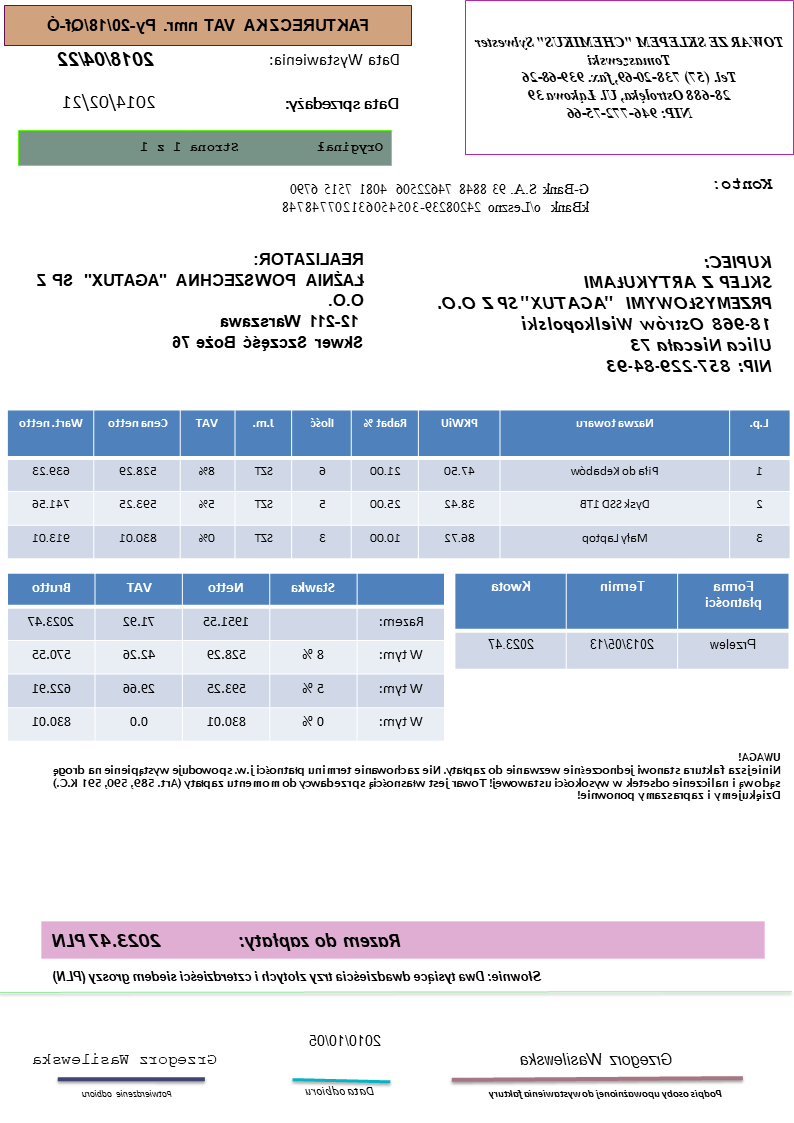Table: (6, 409, 792, 559), (6, 571, 446, 741), (455, 573, 790, 670)
TextBox: (433, 251, 777, 377), (50, 747, 784, 805), (33, 248, 367, 354), (473, 30, 787, 124), (280, 178, 595, 219), (46, 964, 545, 988), (48, 924, 407, 955), (46, 13, 375, 34), (139, 136, 385, 157), (485, 1083, 727, 1102), (517, 1045, 676, 1070), (31, 1049, 222, 1069), (268, 49, 402, 70), (283, 92, 402, 115), (55, 46, 160, 72), (59, 90, 159, 115), (78, 1084, 176, 1103), (307, 1029, 386, 1051), (713, 173, 777, 193), (302, 1081, 377, 1097)
